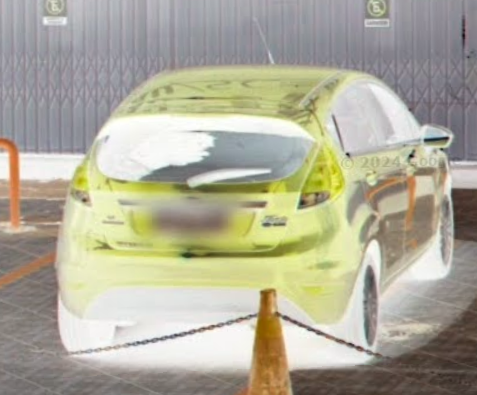car: (55, 63, 456, 354)
